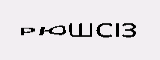І: (113, 20, 121, 39)
З: (121, 20, 137, 38)
Р: (19, 25, 36, 38)
С: (96, 20, 114, 38)
Ш: (67, 20, 95, 40)
Ю: (39, 23, 66, 38)
